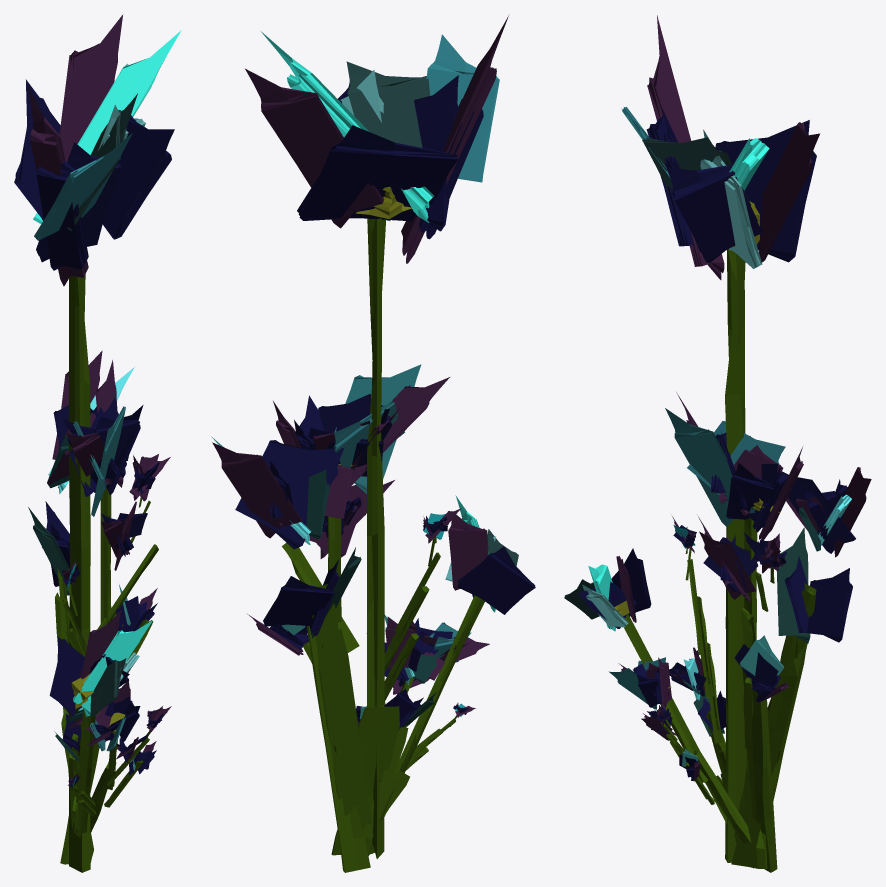
The model's file is VerstrahltePflanze.fbx.
3 renders of one model, left to right at view 1: azimuth 30°, elevation 25°; view 2: azimuth 150°, elevation 25°; view 3: azimuth 270°, elevation 25°, orthographic. The views are drawn at different scales.
Visible parts, largest first — view 1: Cube.002, Cube.164, Cube.150, Cube.158, Cube.149, Cube.155, Cube.151, Cube.153, Cube.154, Cube.156, Cube.152, Cube.005 (+21 smaller); view 2: Cube.002, Cube.156, Cube.164, Cube.150, Cube.162, Cube.152, Cube.135, Cube.141, Cube.151, Cube.153, Cube.154, Cube.163 (+20 smaller); view 3: Cube.002, Cube.164, Cube.158, Cube.150, Cube.156, Cube.163, Cube.145, Cube.094, Cube.153, Cube.134, Cube.152, Cube.157 (+19 smaller).
Part boxes in pixels (x1,y1,x2,y2): Cube.002: (49,610,171,838); Cube.164: (69,274,90,872); Cube.150: (59,15,122,161); Cube.158: (102,115,174,239); Cube.149: (33,30,181,223); Cube.155: (36,160,88,270); Cube.151: (34,133,132,240); Cube.153: (27,84,88,286); Cube.154: (36,142,121,262); Cube.156: (14,79,60,220); Cube.152: (67,93,137,230); Cube.005: (100,488,111,623); Cube.002: (356,495,535,838); Cube.156: (297,125,458,221); Cube.164: (367,218,385,858); Cube.150: (245,68,384,228); Cube.162: (322,629,374,854); Cube.152: (346,61,429,147); Cube.135: (235,440,344,549); Cube.141: (212,442,302,538); Cube.151: (426,34,499,182); Cube.153: (401,14,509,263); Cube.154: (414,75,458,231); Cube.163: (307,626,370,872); Cube.002: (564,548,751,843); Cube.164: (725,249,746,862); Cube.158: (666,165,762,263); Cube.150: (758,122,820,262); Cube.156: (715,120,816,262); Cube.163: (742,670,777,872); Cube.145: (768,583,816,797); Cube.094: (665,408,755,526); Cube.153: (647,15,724,279); Cube.134: (804,568,852,642); Cube.152: (642,137,751,205); Cube.157: (700,129,762,268).
Size of the model in its own units: 48.98 by 191 by 65.98.
